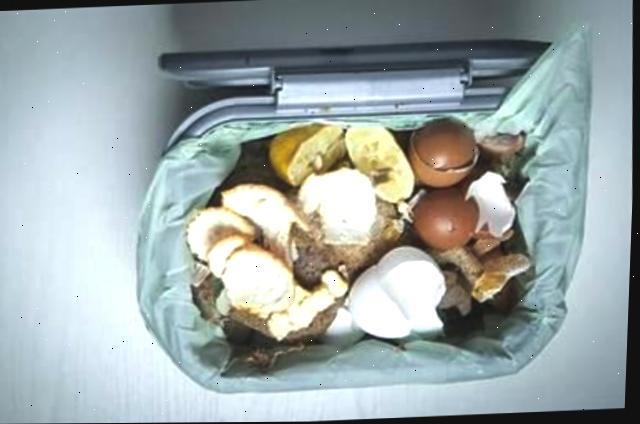Garbage: (184, 121, 536, 359)
